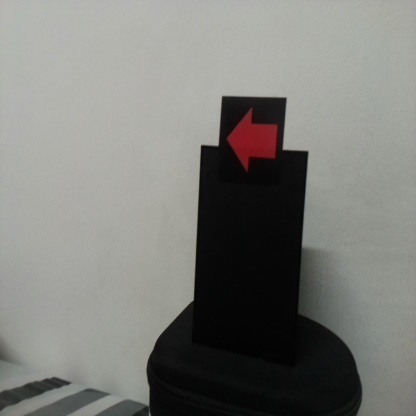id_4: (223, 98, 283, 183)
